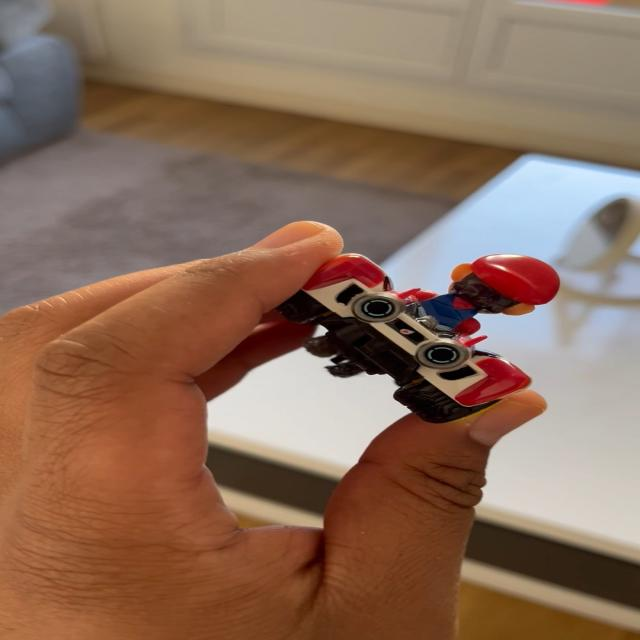mario: (286, 238, 574, 430)
